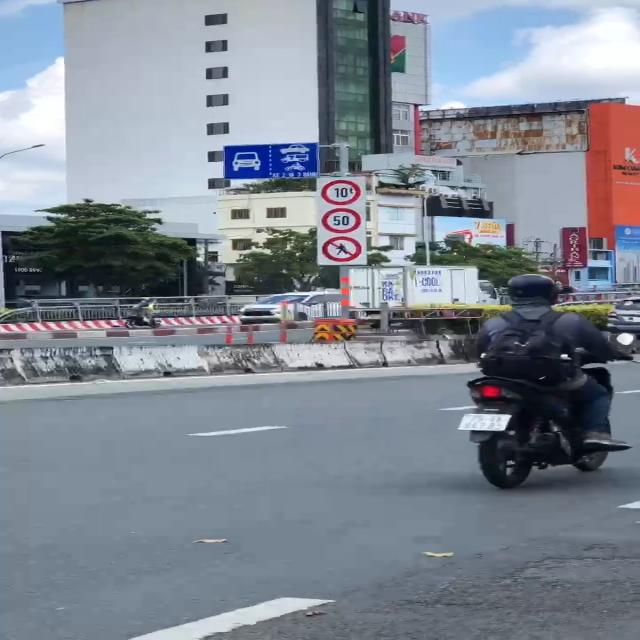Bien bao cam nguoi di bo: (321, 234, 362, 262)
Bien bao toc do toi da cho phep: (318, 206, 366, 234)
